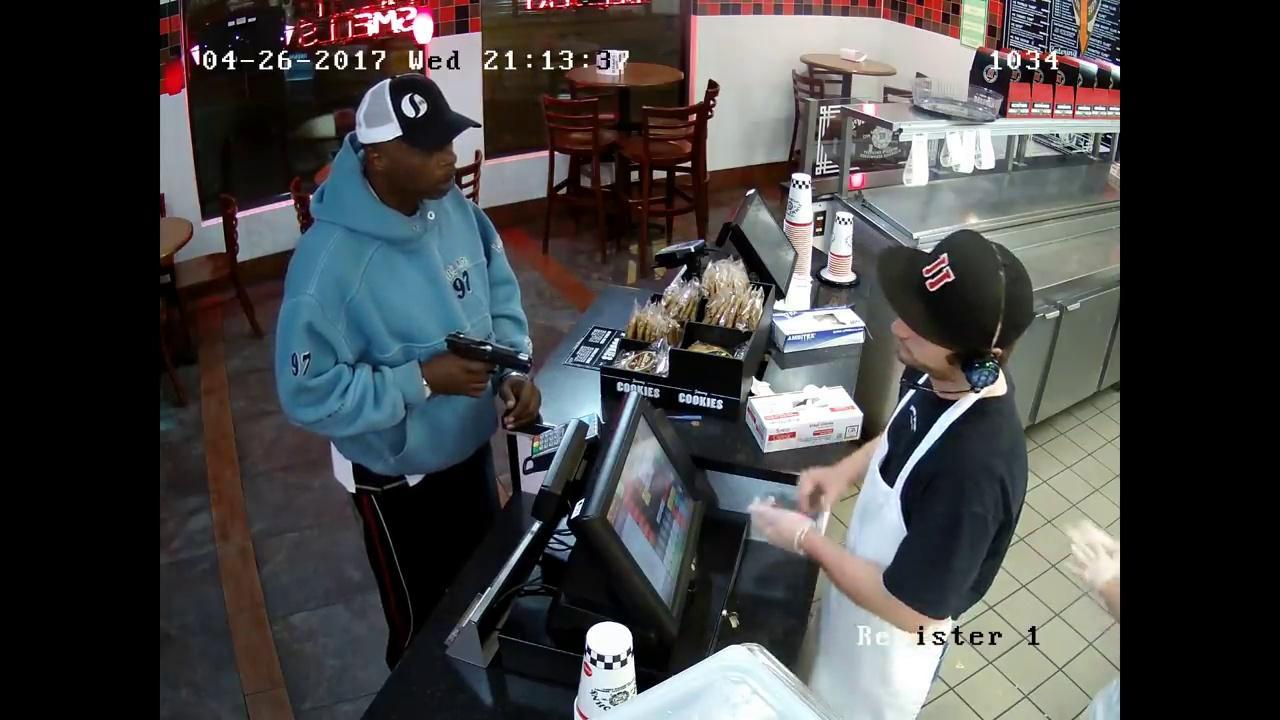Guns: (414, 307, 554, 400)
